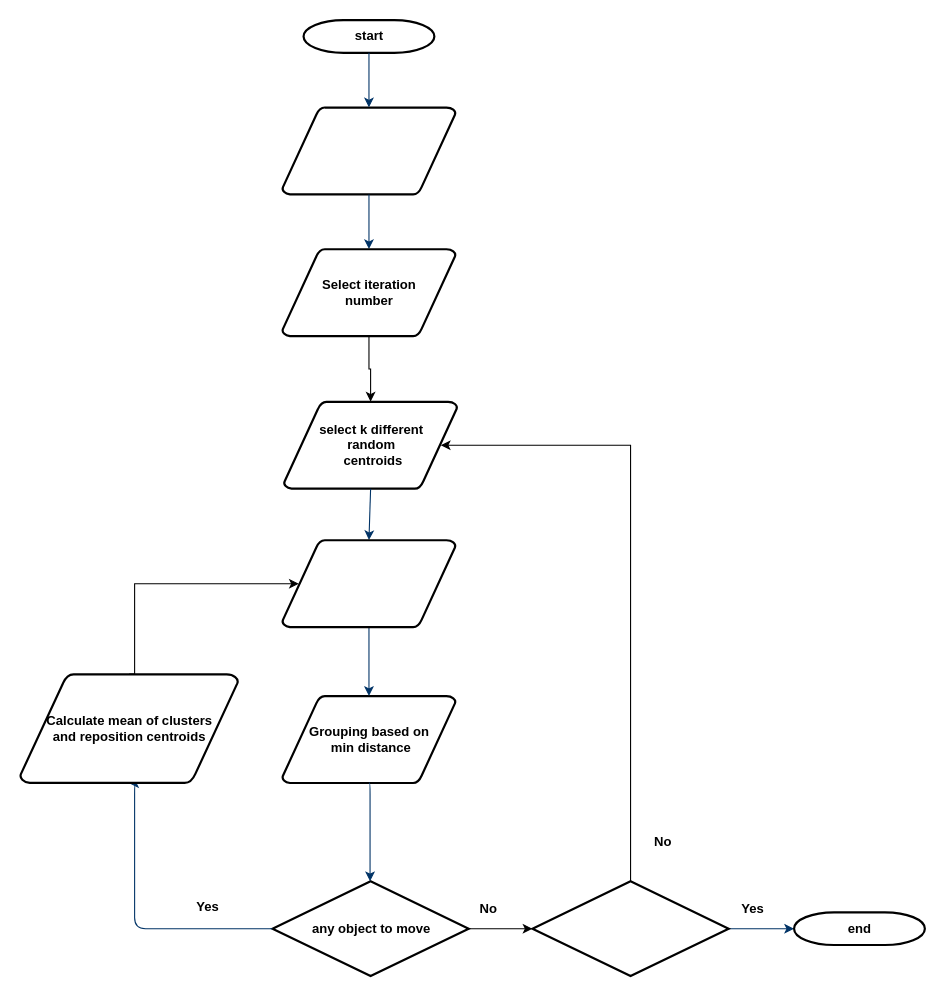
The diagram is 944 pixels wide and 995 high, and some of its shapes have lost their labels. The box of each missing label's shape, as (x1, y1, x2, y2) in pixels:
calculation of distances: (281, 538, 456, 628)
is iteration completed: (531, 880, 729, 977)
Select Elbow point k: (281, 106, 456, 195)
